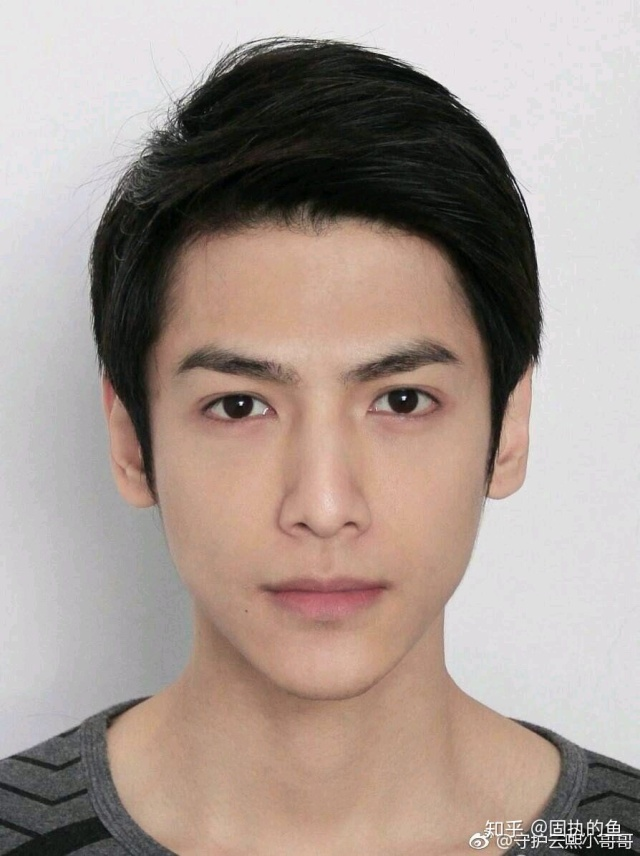unmask: (143, 244, 486, 665)
